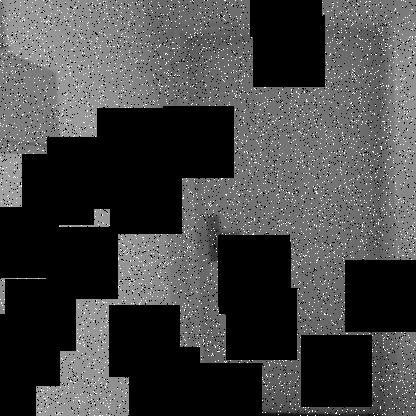Porte: (166, 13, 400, 415)
